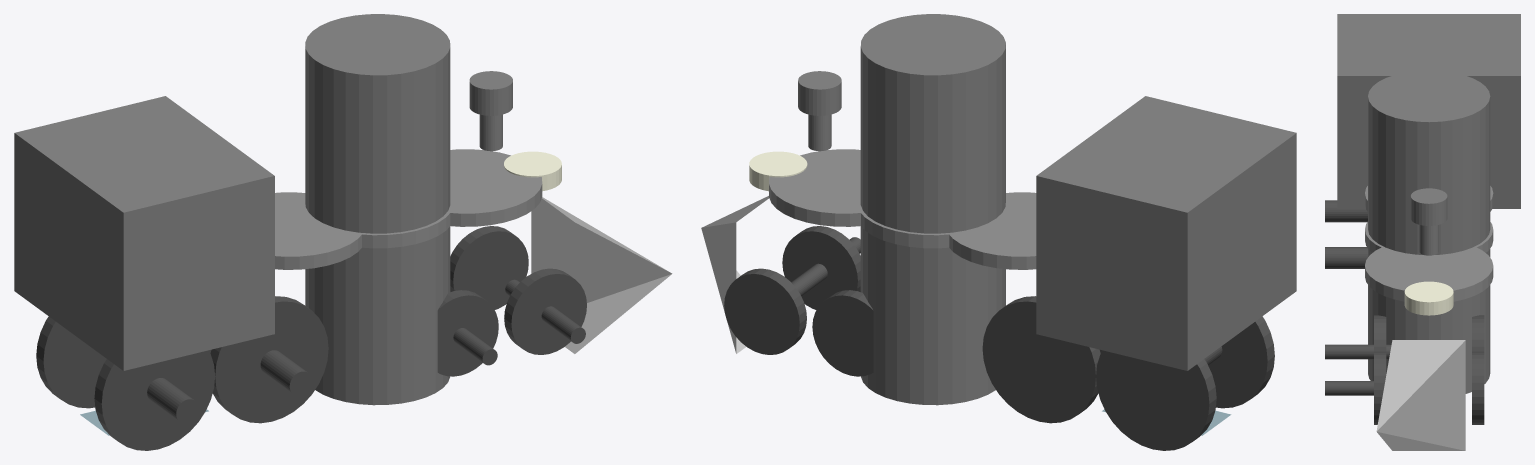
Rendered from trainmodelglb.glb.
The picture shows the model from 3 angles, left to right: view 1: azimuth 30°, elevation 25°; view 2: azimuth 150°, elevation 25°; view 3: azimuth 270°, elevation 25°; orthographic projection. The views are drawn at different scales.
Parts seen in each view (by area): view 1: Cylinder; view 2: Cylinder; view 3: Cylinder.
Boxes of the visible parts, x1,y1,x2,y2 form: Cylinder: (14, 14, 672, 450); Cylinder: (701, 14, 1296, 450); Cylinder: (1325, 14, 1520, 450).
Bounding box in the file's own units: 4.54 × 2.55 × 1.6.
